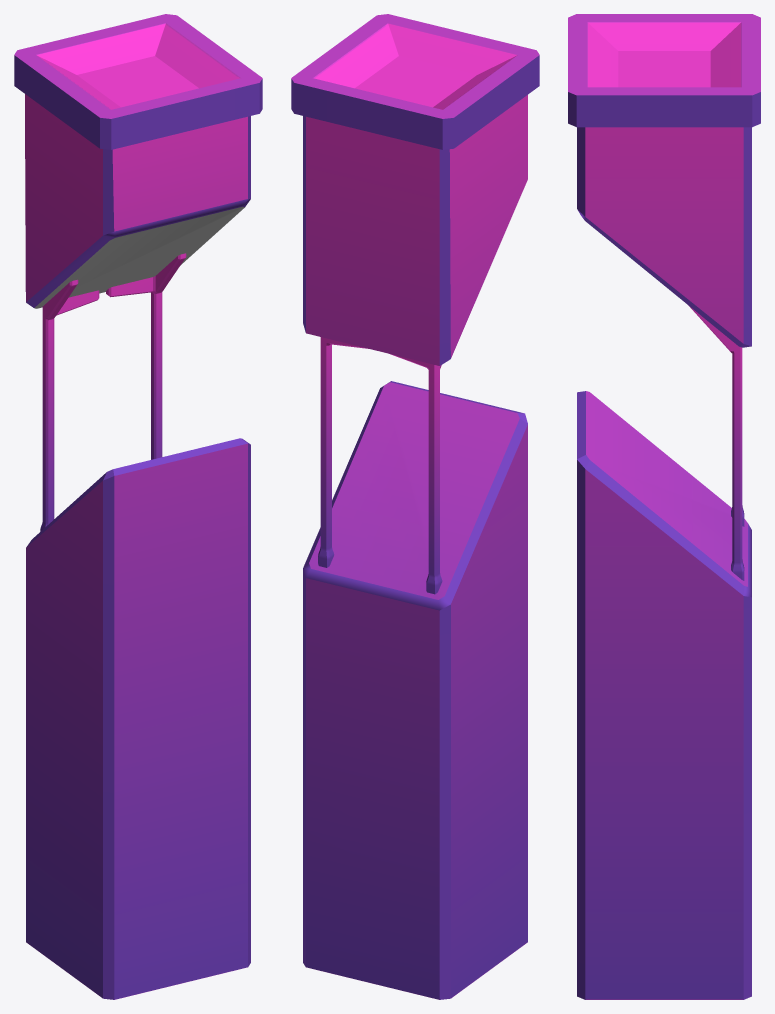
Rendered from buildingsub3.fbx.
3 views of the same model, side by side, from view 1: azimuth 30°, elevation 25°; view 2: azimuth 150°, elevation 25°; view 3: azimuth 270°, elevation 25° (orthographic). The views are drawn at different scales.
Parts seen in each view (by area): view 1: building_3, s_34, s_35; view 2: building_3, s_34, s_35; view 3: building_3, s_35.
Boxes of the visible parts, x1,y1,x2,y2 form: building_3: [14, 14, 262, 999]; s_34: [40, 279, 99, 531]; s_35: [106, 253, 186, 459]; building_3: [291, 14, 539, 999]; s_34: [390, 354, 442, 594]; s_35: [318, 337, 368, 567]; building_3: [568, 14, 760, 999]; s_35: [688, 305, 744, 580].
Size of the model in its own units: 55 by 286 by 55.
